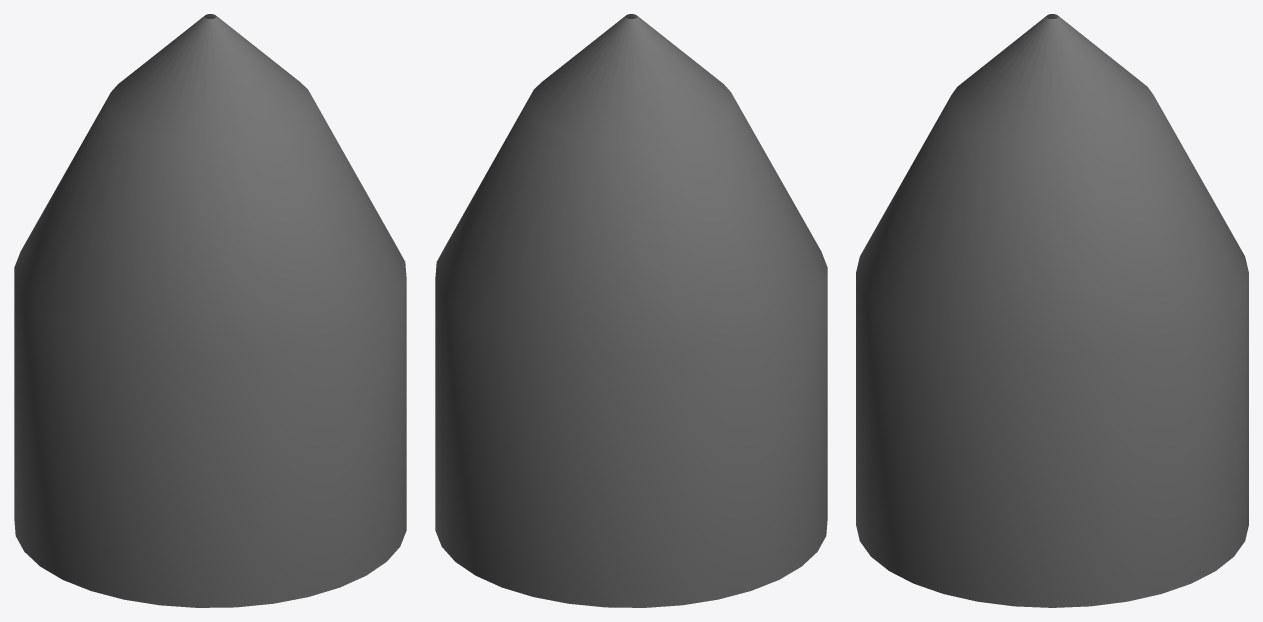
Rendered from weapons.gltf.
3 renders of one model, left to right at view 1: azimuth 30°, elevation 25°; view 2: azimuth 150°, elevation 25°; view 3: azimuth 270°, elevation 25°, orthographic.
Visible parts, largest first — view 1: bullet; view 2: bullet; view 3: bullet.
Part boxes in pixels (bbox=[...]): bullet: bbox=[14, 14, 406, 607]; bullet: bbox=[435, 14, 827, 607]; bullet: bbox=[856, 14, 1248, 607].
Size of the model in its own units: 0.2 by 0.2855 by 0.2.
1 material, 1 textured.
